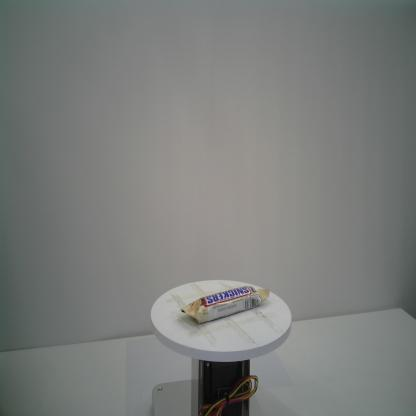Chocolate: (179, 284, 271, 325)
